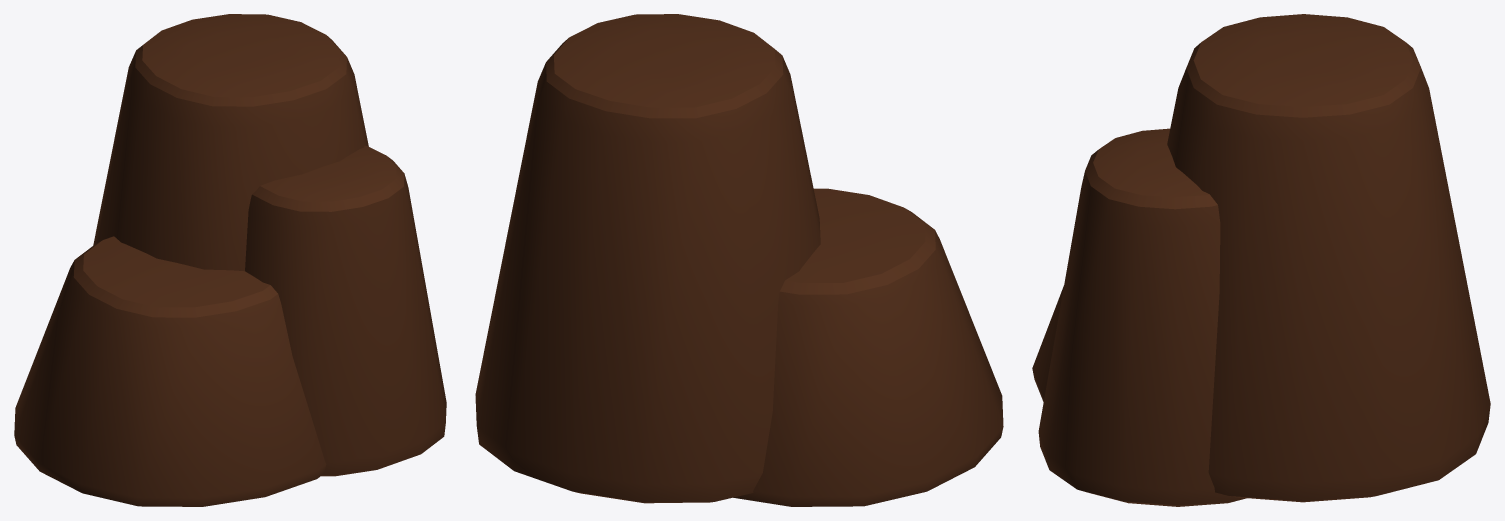
Rendered from RockPlatforms_1.obj.
3 views of the same model, side by side, from view 1: azimuth 30°, elevation 25°; view 2: azimuth 150°, elevation 25°; view 3: azimuth 270°, elevation 25° (orthographic). The views are drawn at different scales.
Visible parts, largest first — view 1: RockPlatforms_1_Cube.199; view 2: RockPlatforms_1_Cube.199; view 3: RockPlatforms_1_Cube.199.
Boxes of the visible parts, left/top/right/bottom form: RockPlatforms_1_Cube.199: left=14, top=14, right=446, bottom=506; RockPlatforms_1_Cube.199: left=475, top=14, right=1003, bottom=506; RockPlatforms_1_Cube.199: left=1032, top=14, right=1490, bottom=506.
Bounding box in the file's own units: 6.4 × 5.53 × 5.88.
